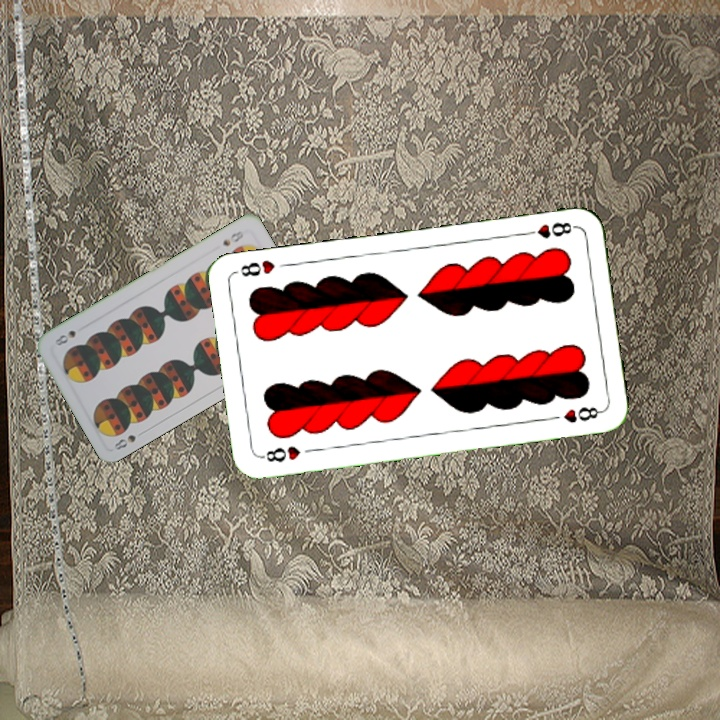H8: (520, 218, 579, 241), (257, 442, 303, 465)
S8: (110, 426, 148, 453), (218, 227, 246, 249)
